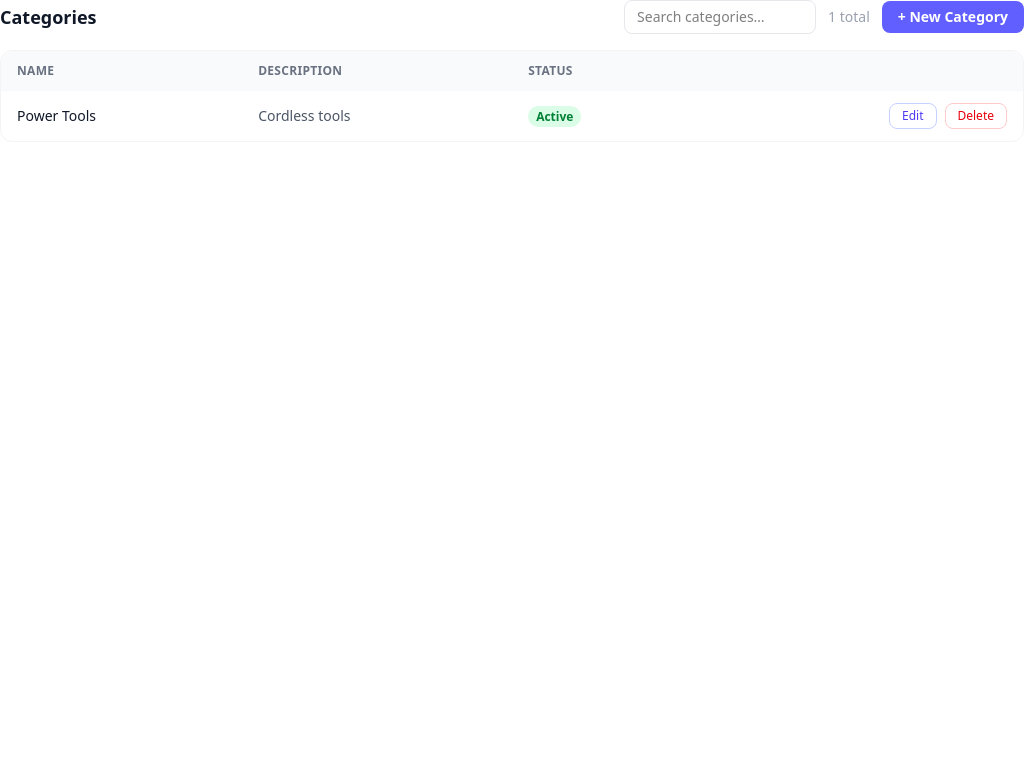
Test: CategoriesTab › creates a category via the modal and adds it to the list
Expected: the text "Power Tools" is shown, left=17, top=106, right=96, bottom=125
Click the button "+ New Category". click: (953, 17)
box: left=882, top=1, right=1023, bottom=33
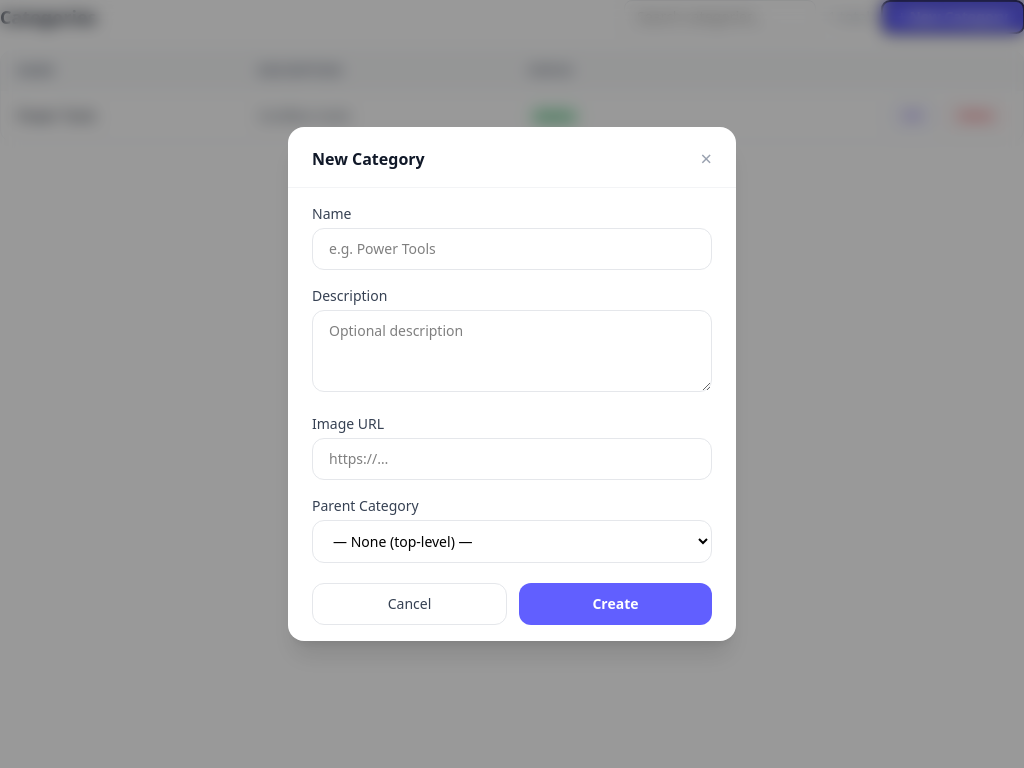
Type "Hand Tools" into the field labelled "Name". click: (512, 249)
box: left=312, top=228, right=712, bottom=270
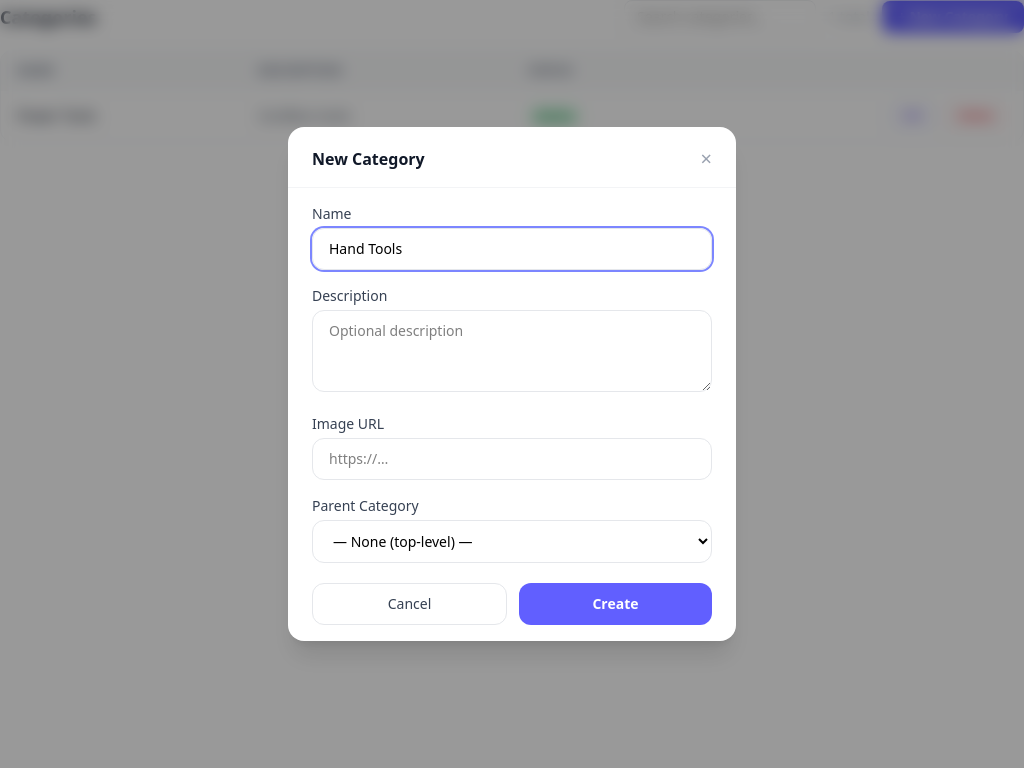
Click the button "Create". click: (616, 604)
box: left=519, top=583, right=712, bottom=625
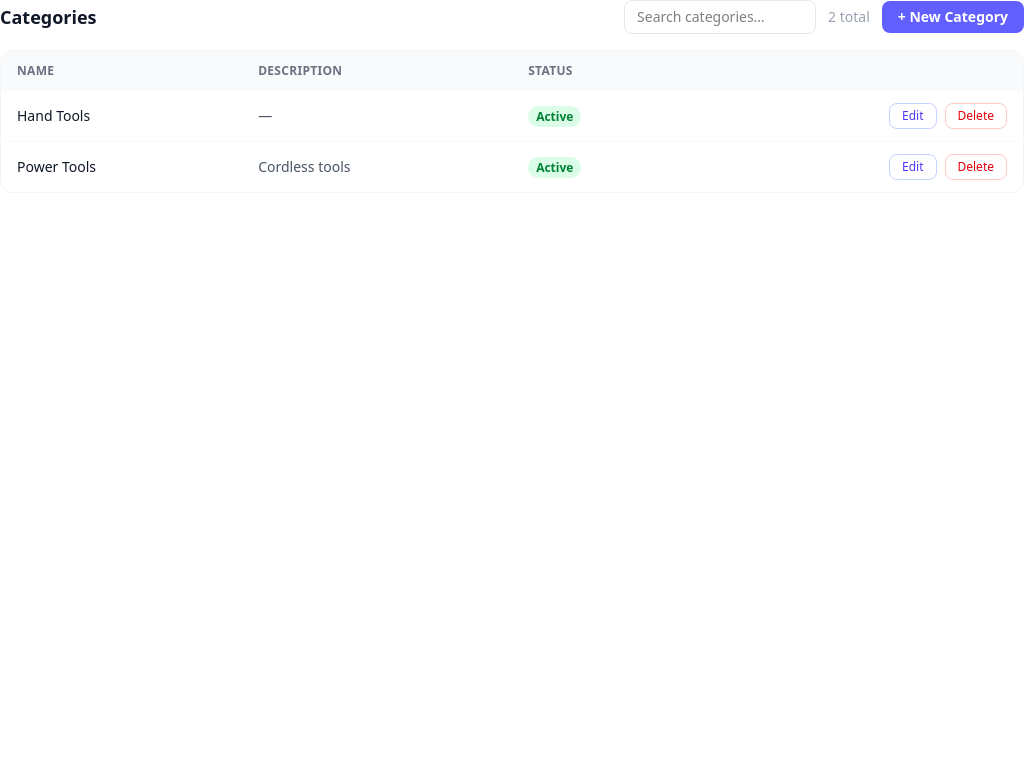
Result: the text "Hand Tools" is shown at left=17, top=106, right=90, bottom=125
